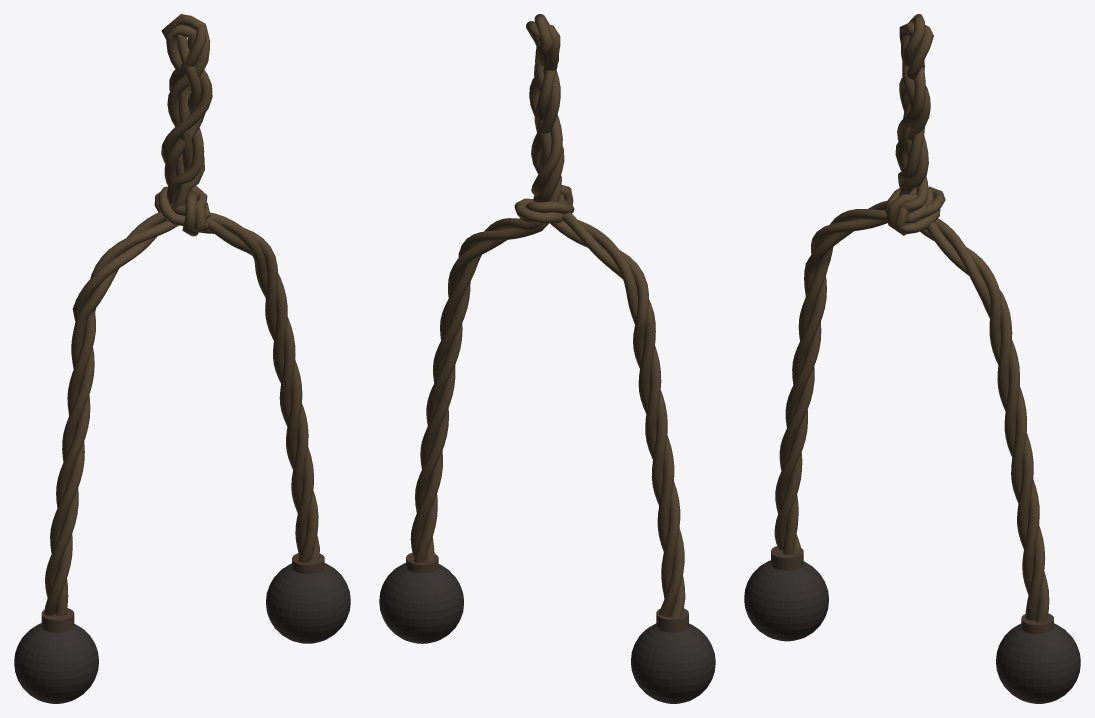
The model's file is BoleadoraV22.fbx.
3 renders of one model, left to right at view 1: azimuth 30°, elevation 25°; view 2: azimuth 150°, elevation 25°; view 3: azimuth 330°, elevation 25°, orthographic.
Parts seen in each view (by area): view 1: Círculo, Esfera, Esfera.001, Cilindro; view 2: Círculo, Esfera, Esfera.001, Cilindro; view 3: Círculo, Esfera, Esfera.001, Cilindro.
Boxes of the visible parts, x1,y1,x2,y2 form: Círculo: (44,14,319,615); Esfera: (14,623,98,703); Esfera.001: (266,563,350,643); Cilindro: (41,608,74,632); Círculo: (410,14,685,618); Esfera: (631,623,715,703); Esfera.001: (379,563,463,643); Cilindro: (656,608,688,632); Círculo: (774,14,1049,622); Esfera: (744,560,828,641); Esfera.001: (996,623,1080,703); Cilindro: (771,546,803,570).
Size of the model in its own units: 1664 by 3183 by 364.
